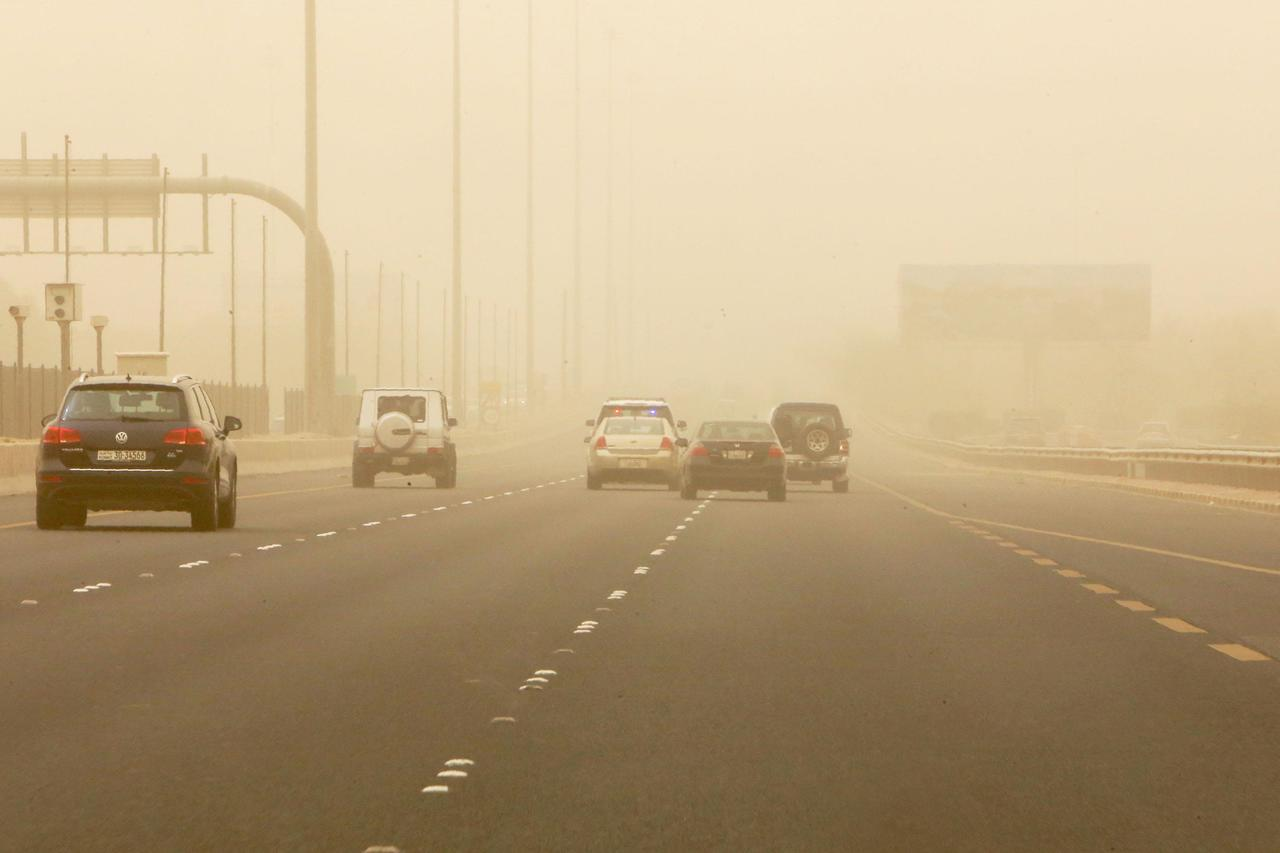car: (36, 373, 244, 533), (352, 387, 458, 490), (677, 419, 785, 501), (585, 415, 684, 490), (772, 402, 853, 490), (586, 396, 685, 435), (1002, 416, 1043, 446), (1136, 422, 1175, 448), (1058, 425, 1101, 448)
